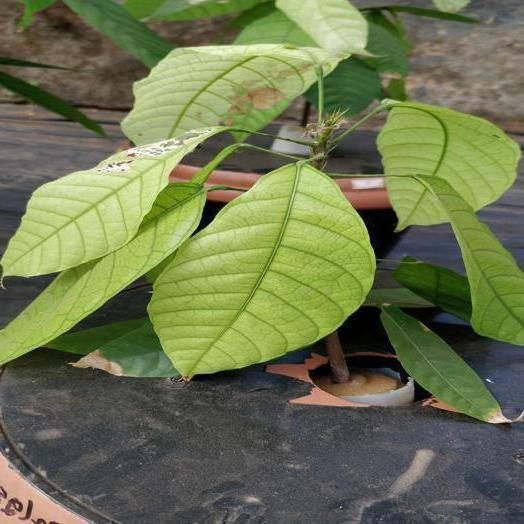Healthy Leaf: (381, 306, 513, 422), (47, 317, 178, 376), (63, 0, 173, 66), (394, 257, 471, 321), (304, 58, 381, 117)
Iron: (149, 163, 374, 375), (0, 184, 204, 363), (2, 127, 217, 276), (122, 44, 342, 144), (377, 102, 519, 228), (419, 176, 523, 344), (277, 0, 366, 53), (234, 9, 316, 45)
